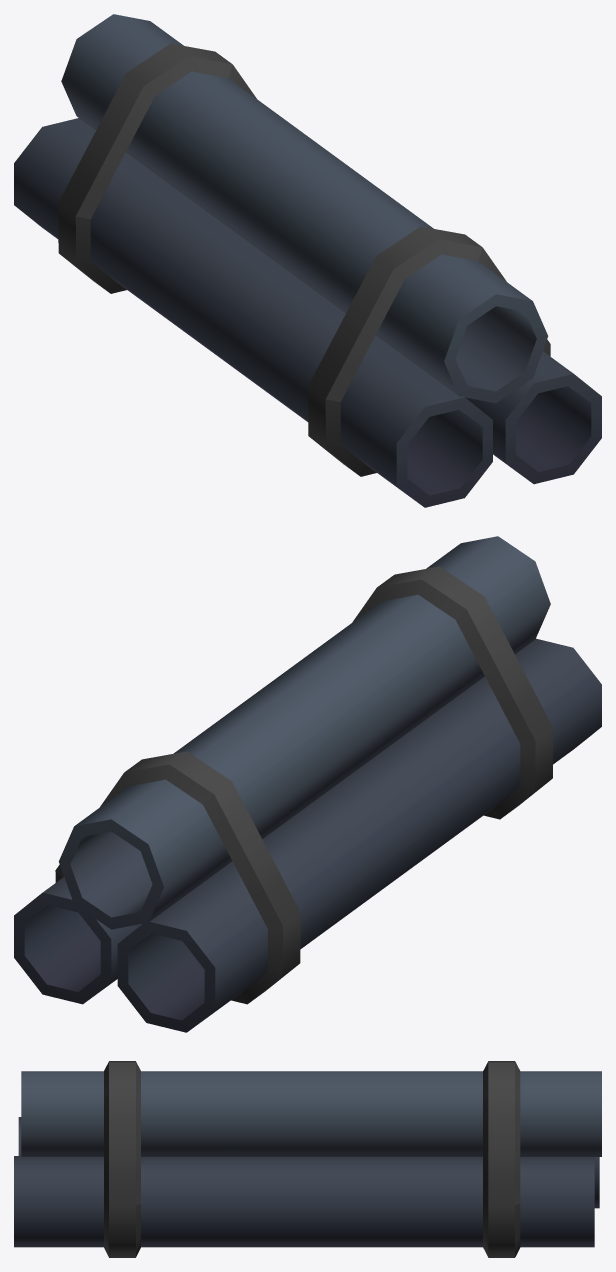
File: Pipes_C_2_3.fbx
The picture shows the model from 3 angles, top to bottom: view 1: azimuth 30°, elevation 25°; view 2: azimuth 150°, elevation 25°; view 3: azimuth 270°, elevation 25°; orthographic projection. The views are drawn at different scales.
Parts seen in each view (by area): view 1: Pipes_C_2_3; view 2: Pipes_C_2_3; view 3: Pipes_C_2_3.
Part boxes in pixels (bbox=[...]): Pipes_C_2_3: bbox=[14, 14, 601, 507]; Pipes_C_2_3: bbox=[14, 536, 601, 1032]; Pipes_C_2_3: bbox=[14, 1061, 601, 1257].
Bounding box in the file's own units: 119 × 111 × 355.
